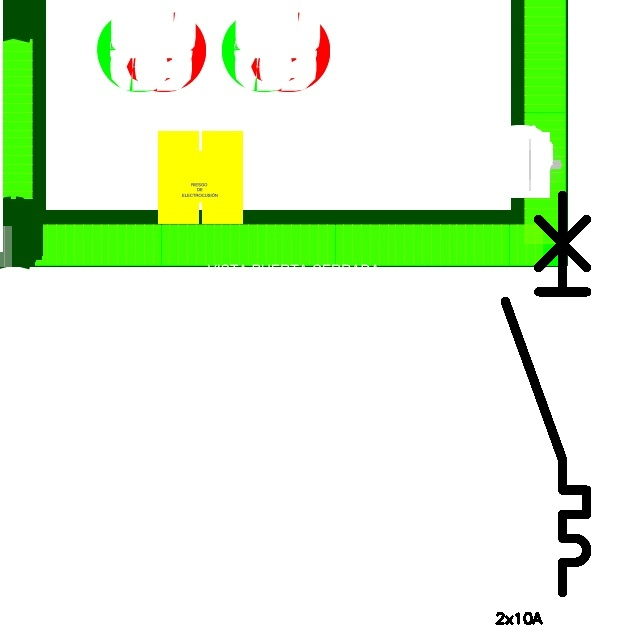interruptor_termomagnetico: (495, 185, 597, 603)
